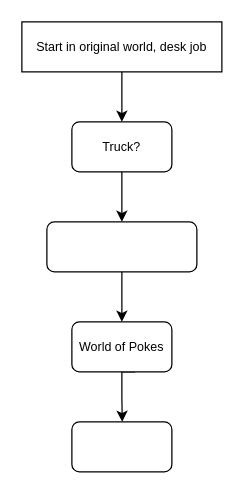
This 244x494 diagram has some shape labels left out. Each missing label, with the centre of its shape:
Found asleep? by Professor Birch(May): pixel 121 446
Space/TimeWorld: pixel 121 246
